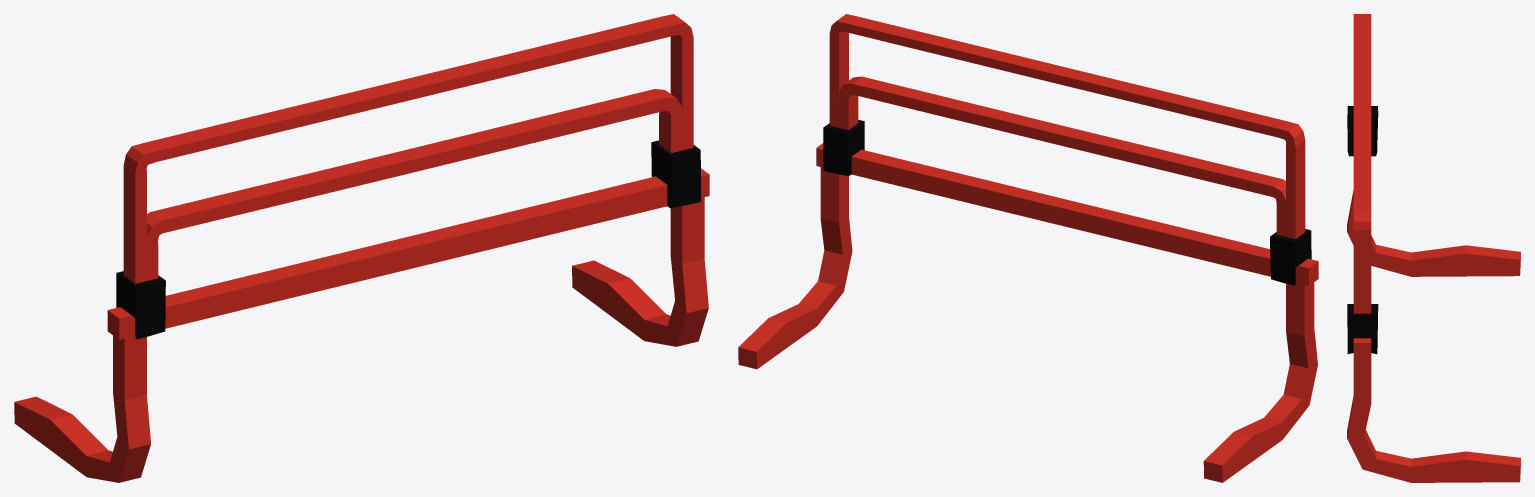
File: objetos_negociodepe.fbx
3 views of the same model, side by side, from view 1: azimuth 30°, elevation 25°; view 2: azimuth 150°, elevation 25°; view 3: azimuth 270°, elevation 25° (orthographic). The views are drawn at different scales.
Visible parts, largest first — view 1: Cubo; view 2: Cubo; view 3: Cubo.
Part boxes in pixels (x1,y1,x2,y2): Cubo: (14, 14, 709, 482); Cubo: (738, 14, 1318, 482); Cubo: (1347, 14, 1520, 482).
Size of the model in its own units: 4211 by 2358 by 1417.
